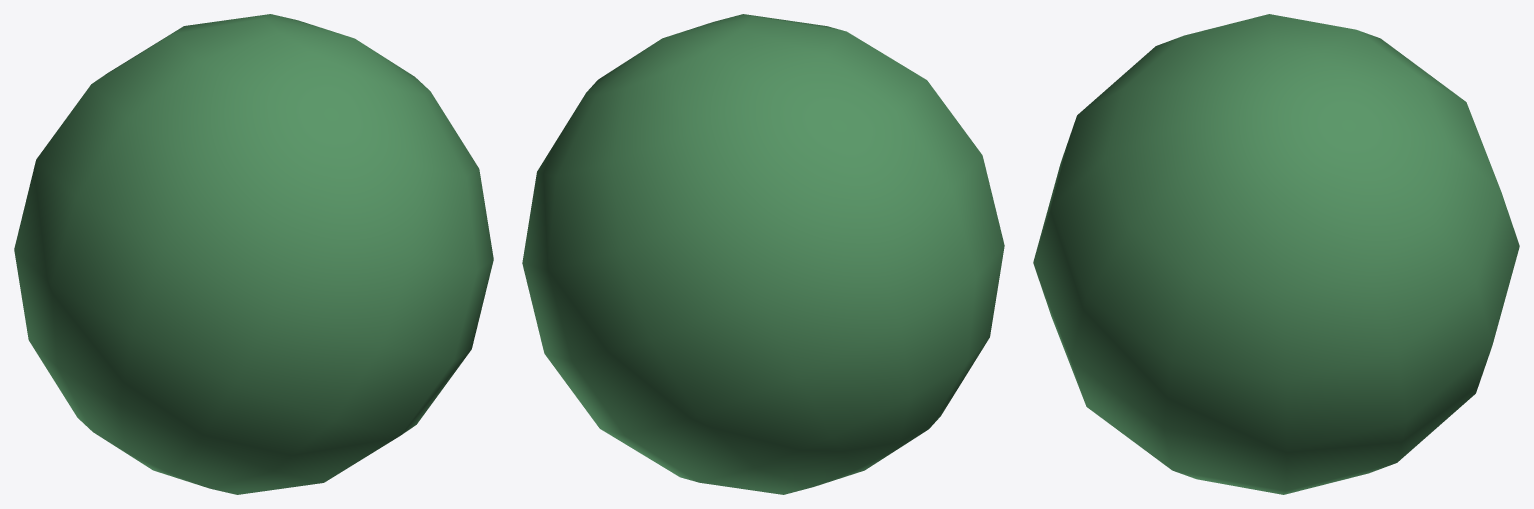
3 views of the same model, side by side, from view 1: azimuth 30°, elevation 25°; view 2: azimuth 150°, elevation 25°; view 3: azimuth 270°, elevation 25° (orthographic).
Parts seen in each view (by area): view 1: 右侧鼻唇淋巴结; view 2: 右侧鼻唇淋巴结; view 3: 右侧鼻唇淋巴结.
Part boxes in pixels (left/top/right/bottom): 右侧鼻唇淋巴结: left=14, top=14, right=493, bottom=494; 右侧鼻唇淋巴结: left=522, top=14, right=1004, bottom=494; 右侧鼻唇淋巴结: left=1033, top=14, right=1519, bottom=494.
Size of the model in its own units: 0.0038 by 0.00381 by 0.00383.
